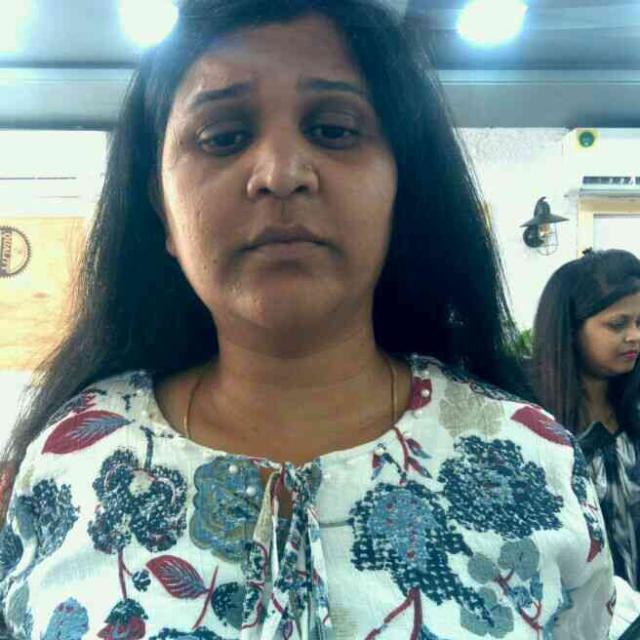puffy_eyes: (197, 143, 251, 173), (304, 136, 363, 161)
